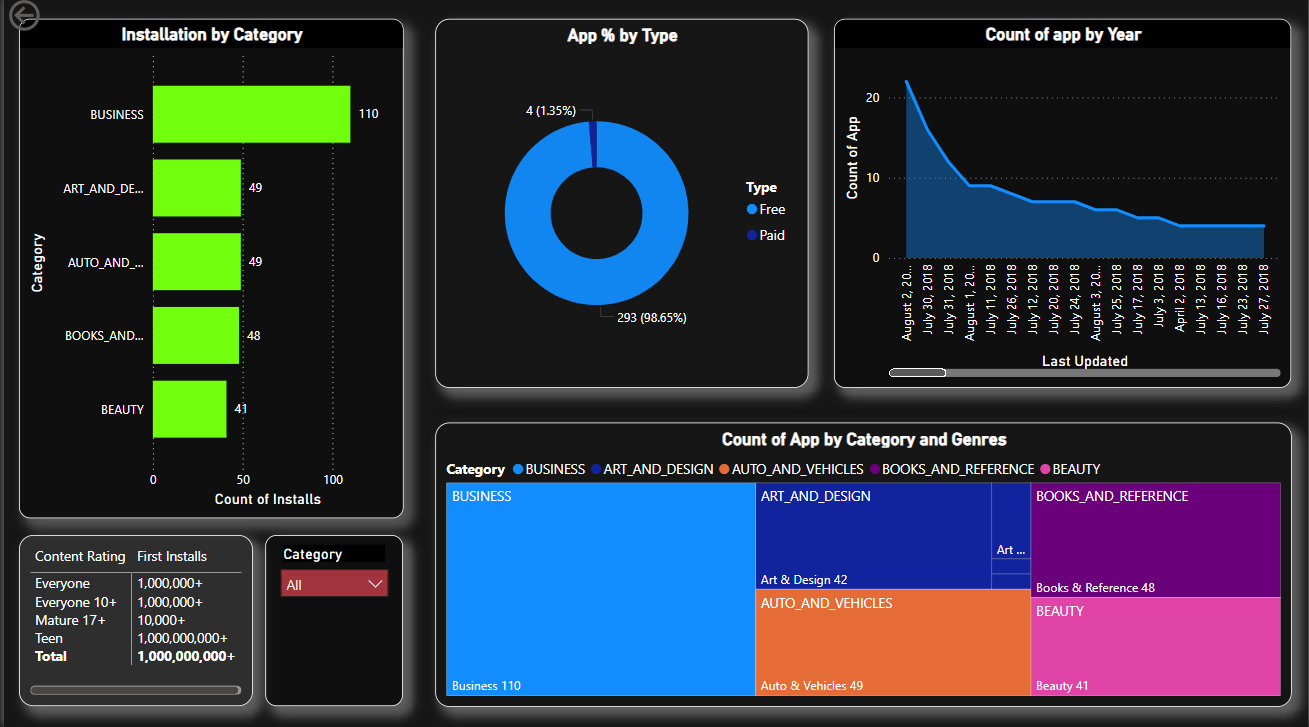

The dashboard page shown, as its layout file describes it:
{"tool":"powerbi","page":{"name":"Page 2","canvas":[1280,720],"ordinal":1},"visuals":[{"type":"barChart","title":"Installation by Category","fields":{"Category":["googleplaystore googleplaystore.Category"],"Y":["CountNonNull(googleplaystore googleplaystore.Installs)"]},"box":[14.3,22.8,377.7,490.3],"z":0},{"type":"donutChart","title":"App % by Type","fields":{"Category":["googleplaystore googleplaystore.Type"],"Y":["CountNonNull(googleplaystore googleplaystore.App)"]},"box":[423.3,22.8,366.3,362],"z":1000},{"type":"areaChart","title":"Count of app by Year","fields":{"Category":["googleplaystore googleplaystore.Last Updated"],"Y":["CountNonNull(googleplaystore googleplaystore.App)"]},"box":[815.3,22.8,449,362],"z":2000},{"type":"pivotTable","fields":{"Rows":["googleplaystore googleplaystore.Content Rating"],"Values":["Min(googleplaystore googleplaystore.Installs)"]},"box":[14.3,530.2,229.5,168.2],"z":3000},{"type":"slicer","fields":{"Values":["googleplaystore googleplaystore.Category"]},"box":[256.6,530.2,135.4,168.2],"z":4000},{"type":"treemap","title":"Count of App by Category and Genres","fields":{"Group":["googleplaystore googleplaystore.Category"],"Details":["googleplaystore googleplaystore.Genres"],"Values":["CountNonNull(googleplaystore googleplaystore.App)"]},"box":[423.3,419.1,841,279.4],"z":5000},{"type":"actionButton","box":[0,0,100,40],"z":6000}]}

Visuals, with their boxes in screenshot pixels (x1, y1, x2, y2), scaled from the page's 1280x720 canvas onto the 1309x727 screenshot:
"Installation by Category" barChart: 15 23 401 518
"App % by Type" donutChart: 433 23 807 389
"Count of app by Year" areaChart: 834 23 1293 389
pivotTable - googleplaystore googleplaystore.Content Rating x Min(googleplaystore googleplaystore.Installs): 15 535 249 705
slicer - googleplaystore googleplaystore.Category: 262 535 401 705
"Count of App by Category and Genres" treemap: 433 423 1293 705
actionButton: 0 0 102 40
